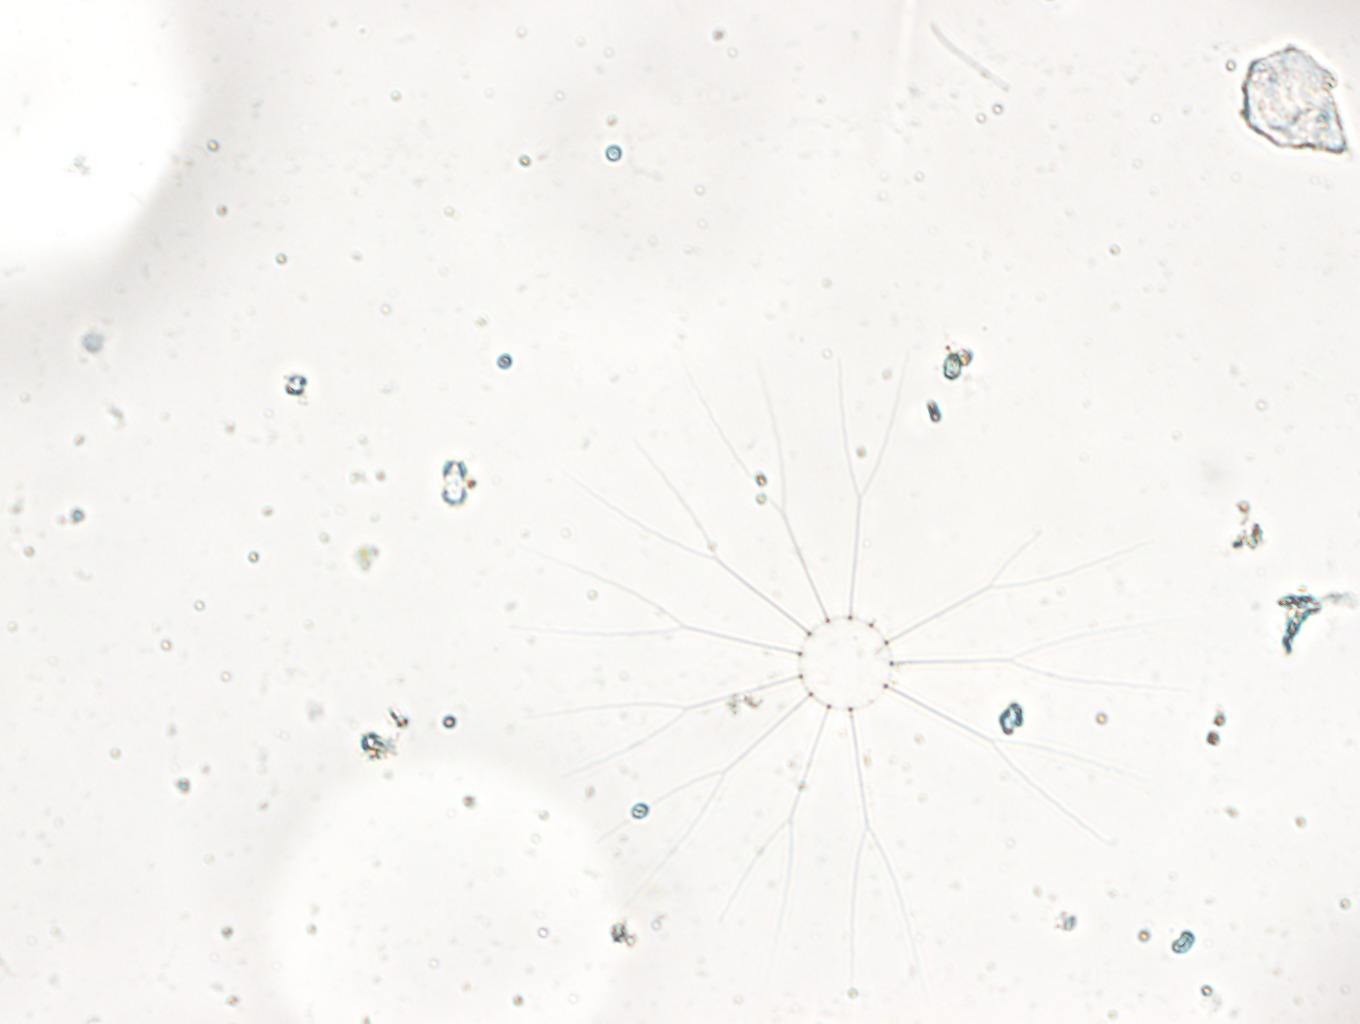helicotheca: (535, 356, 1158, 981)
